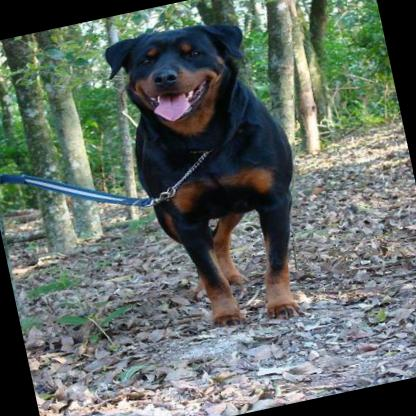Rottweiler: (95, 5, 329, 346)
